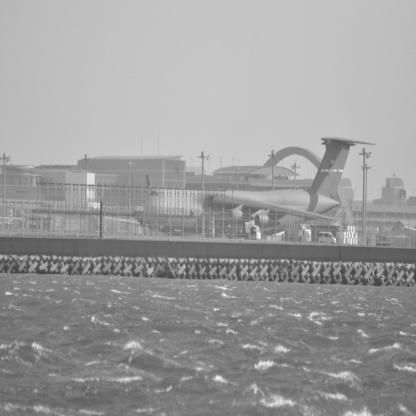C5: (137, 138, 378, 240)
